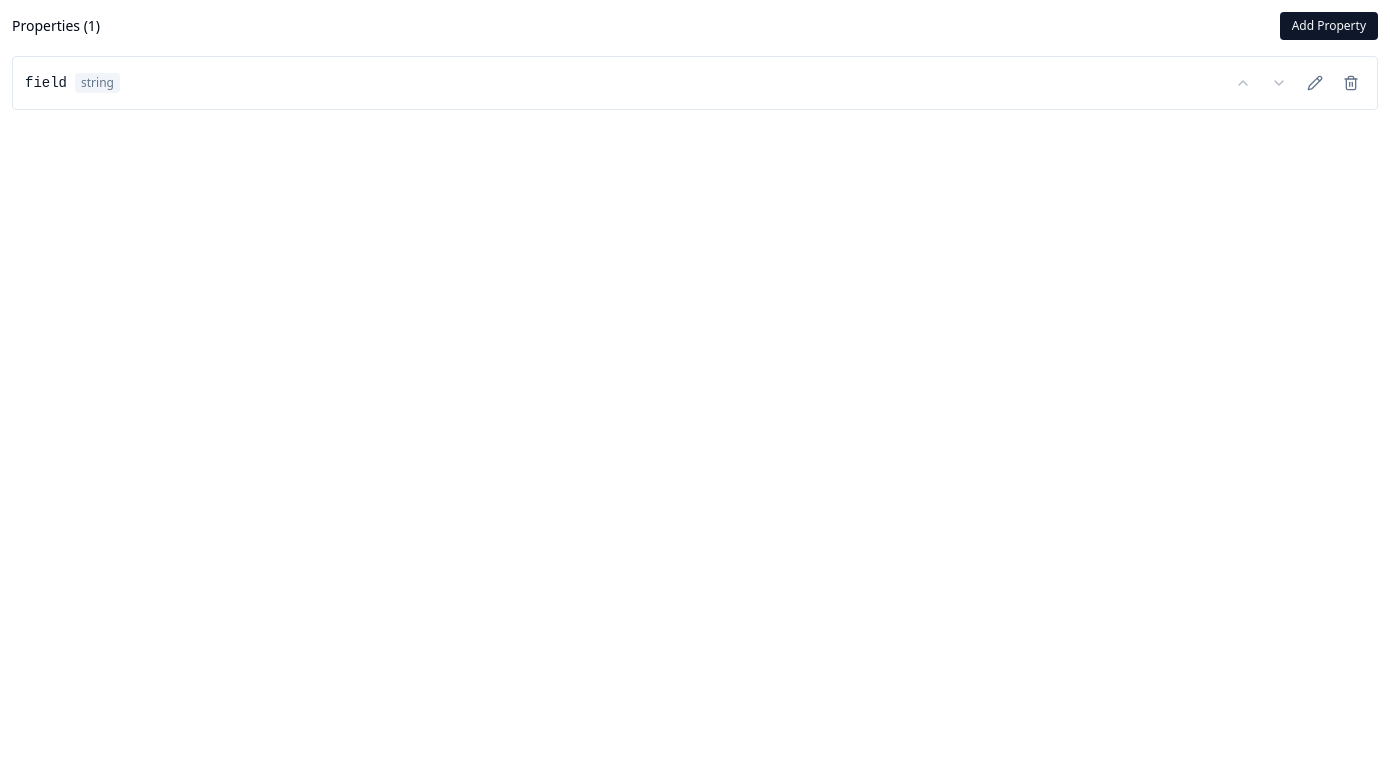
Test: SchemaVisualBuilder › Editing properties › should cancel edit
This screenshot has width=1390, height=780.
What coordinates should you click on to do the following:
click the button titled "Edit"
I would click on:
 (1315, 83)
Its box is [1301,69,1329,97].
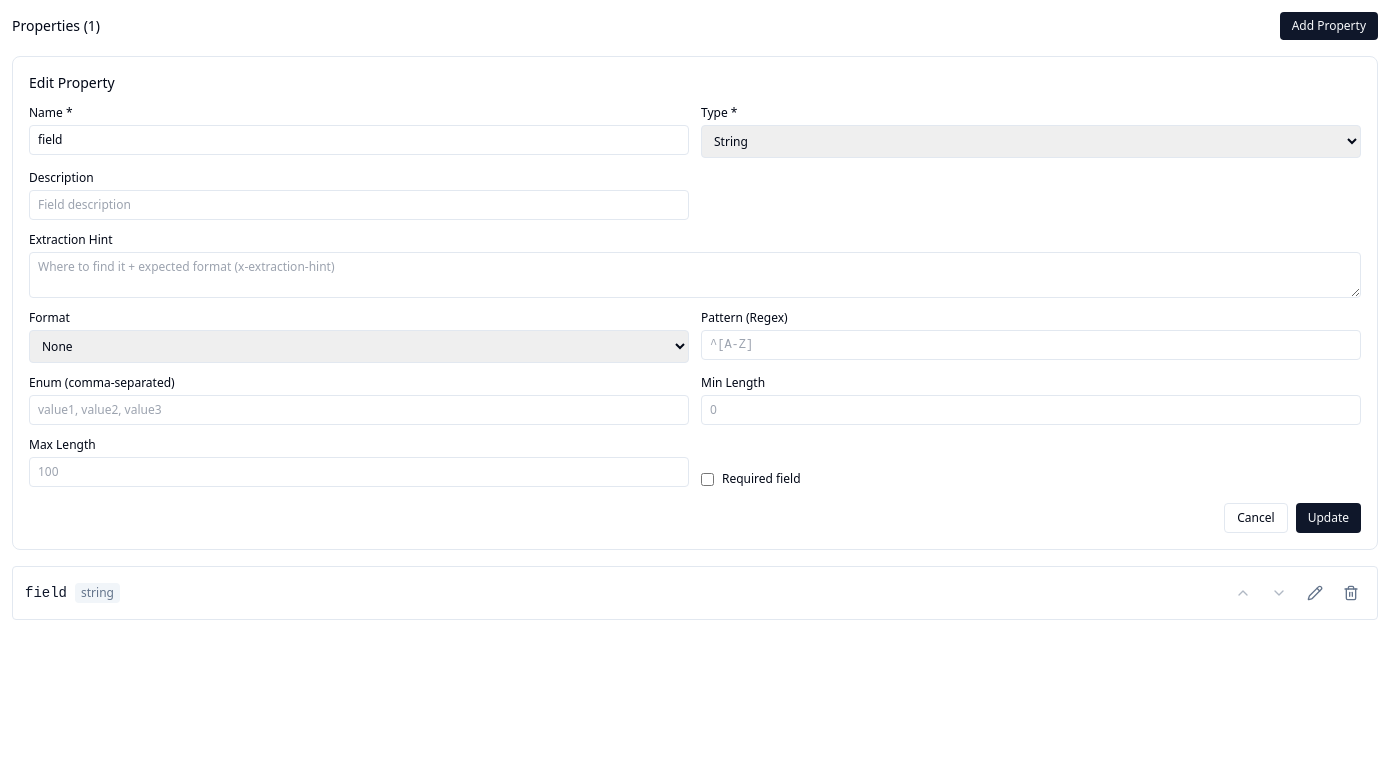
What coordinates should you click on to do the following:
click the button "Cancel"
I would click on:
 (1256, 518)
Its box is [1224,503,1288,533].
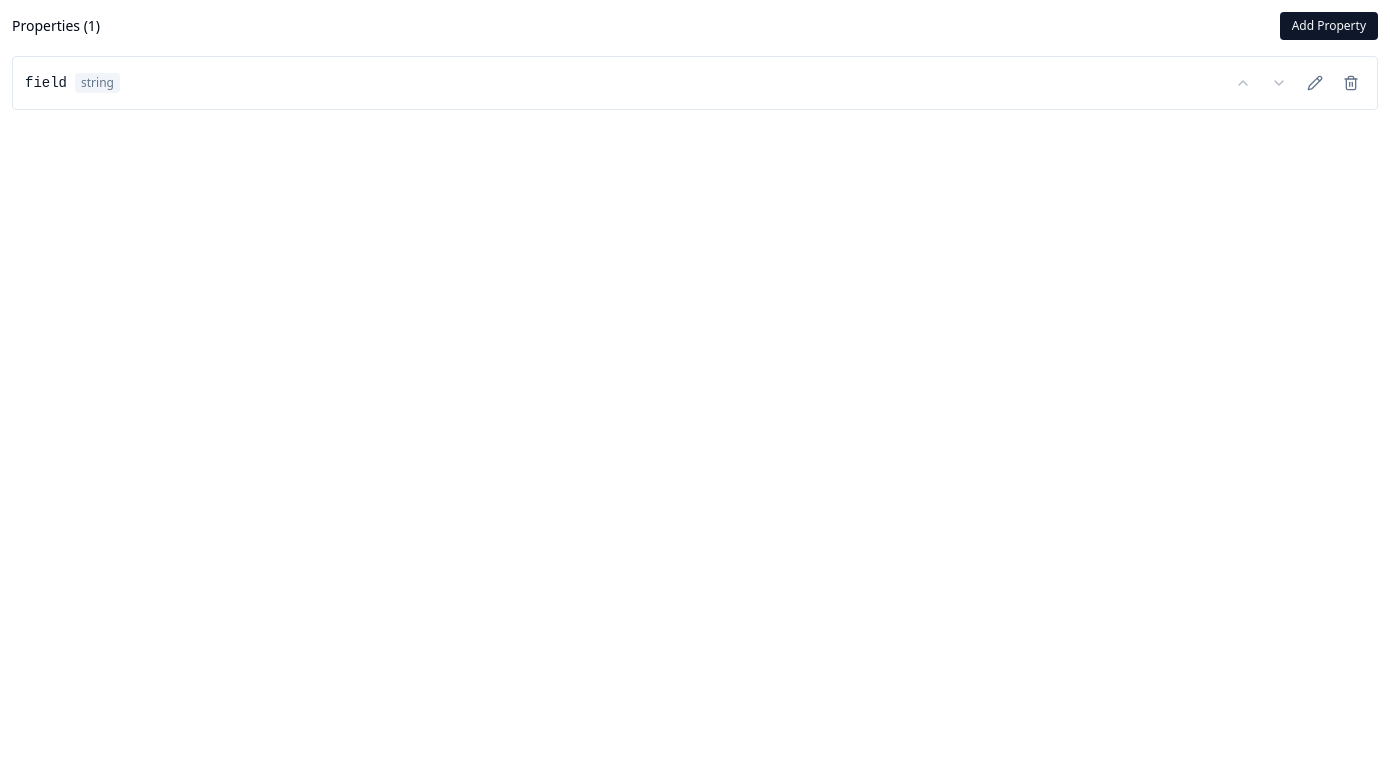
Expected: the label labelled "Name" is gone
